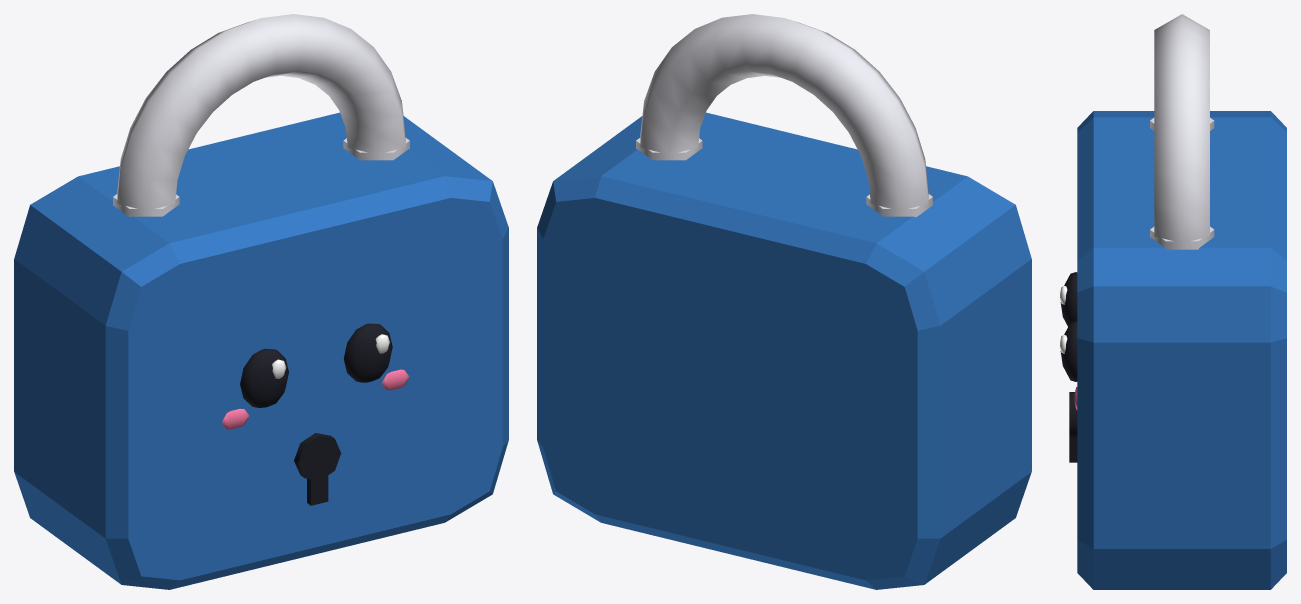
Rendered from 08-typescript-strict.obj.
The picture shows the model from 3 angles, left to right: view 1: azimuth 30°, elevation 25°; view 2: azimuth 150°, elevation 25°; view 3: azimuth 270°, elevation 25°; orthographic projection. The views are drawn at different scales.
Visible parts, largest first — view 1: lockBody, shackle, eye, keyhole, shackleLeg, cheek; view 2: lockBody, shackle, shackleLeg; view 3: lockBody, shackle, eye, shackleLeg, keyhole.
Boxes of the visible parts, <box> form: lockBody: <box>14,112,508,589</box>; shackle: <box>117,14,405,210</box>; eye: <box>240,323,392,407</box>; keyhole: <box>294,433,341,505</box>; shackleLeg: <box>113,138,409,217</box>; cheek: <box>221,369,409,429</box>; lockBody: <box>537,112,1031,589</box>; shackle: <box>640,14,928,210</box>; shackleLeg: <box>636,138,932,217</box>; lockBody: <box>1077,111,1286,589</box>; shackle: <box>1154,14,1209,243</box>; eye: <box>1060,272,1077,381</box>; shackleLeg: <box>1150,117,1214,249</box>; keyhole: <box>1069,392,1077,462</box>.
Size of the model in its own units: 1.4 by 1.68 by 0.7038.
